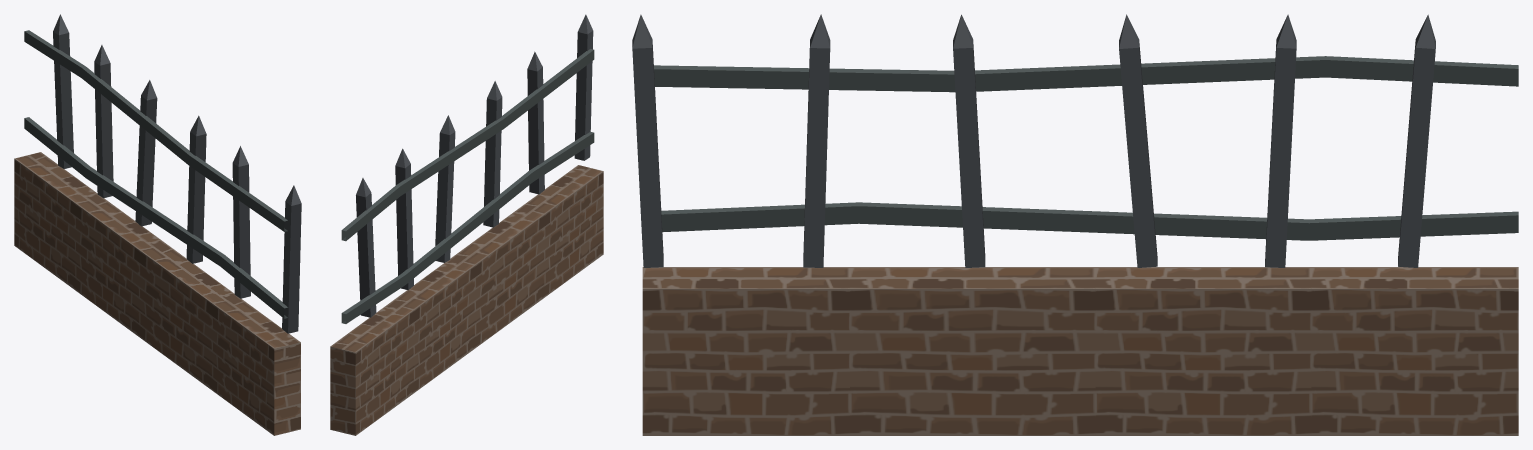
Rendered from Wall_01.fbx.
3 views of the same model, side by side, from view 1: azimuth 30°, elevation 25°; view 2: azimuth 150°, elevation 25°; view 3: azimuth 270°, elevation 25° (orthographic). The views are drawn at different scales.
Parts seen in each view (by area): view 1: Wall_01; view 2: Wall_01; view 3: Wall_01.
Boxes of the visible parts, bbox=[...] form: Wall_01: bbox=[14, 14, 301, 435]; Wall_01: bbox=[330, 14, 603, 435]; Wall_01: bbox=[632, 14, 1518, 435].
Bounding box in the file's own units: 23.75 × 210 × 405.
Materials: 1 (1 with a texture image).
